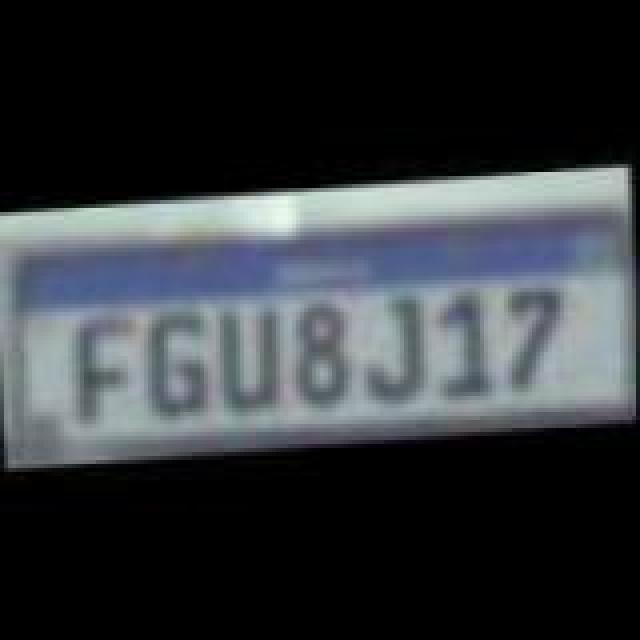1: (436, 288, 496, 408)
7: (492, 278, 568, 394)
8: (284, 292, 352, 416)
F: (70, 312, 142, 432)
G: (140, 300, 216, 420)
J: (352, 290, 436, 406)
U: (210, 294, 282, 410)
